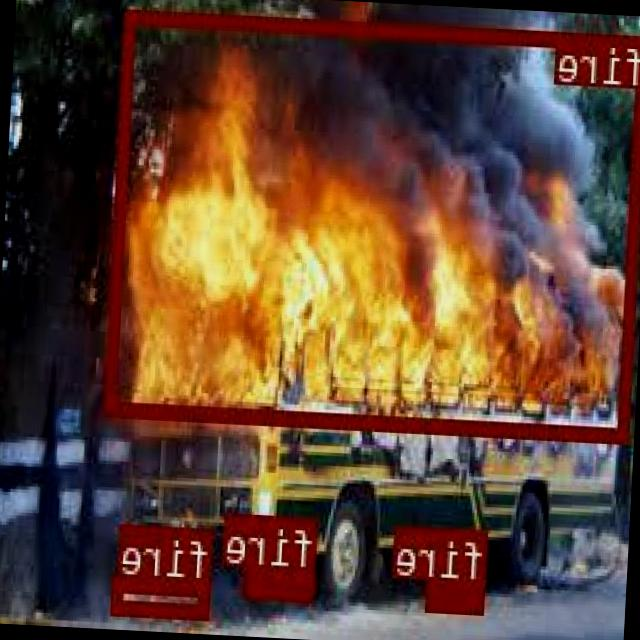fire: (106, 7, 640, 440), (114, 576, 214, 615), (246, 566, 316, 598), (428, 579, 487, 612)
